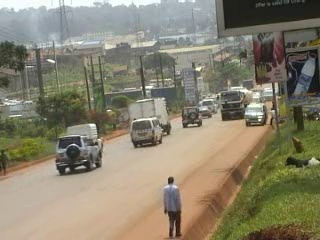Car: (52, 132, 104, 176), (179, 103, 203, 130), (195, 104, 211, 120)
